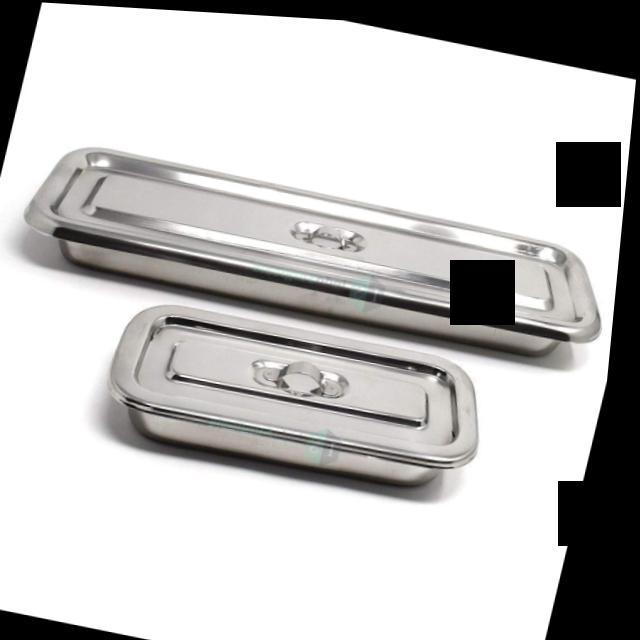Catheter Tray: (8, 116, 631, 374), (92, 290, 518, 516)
